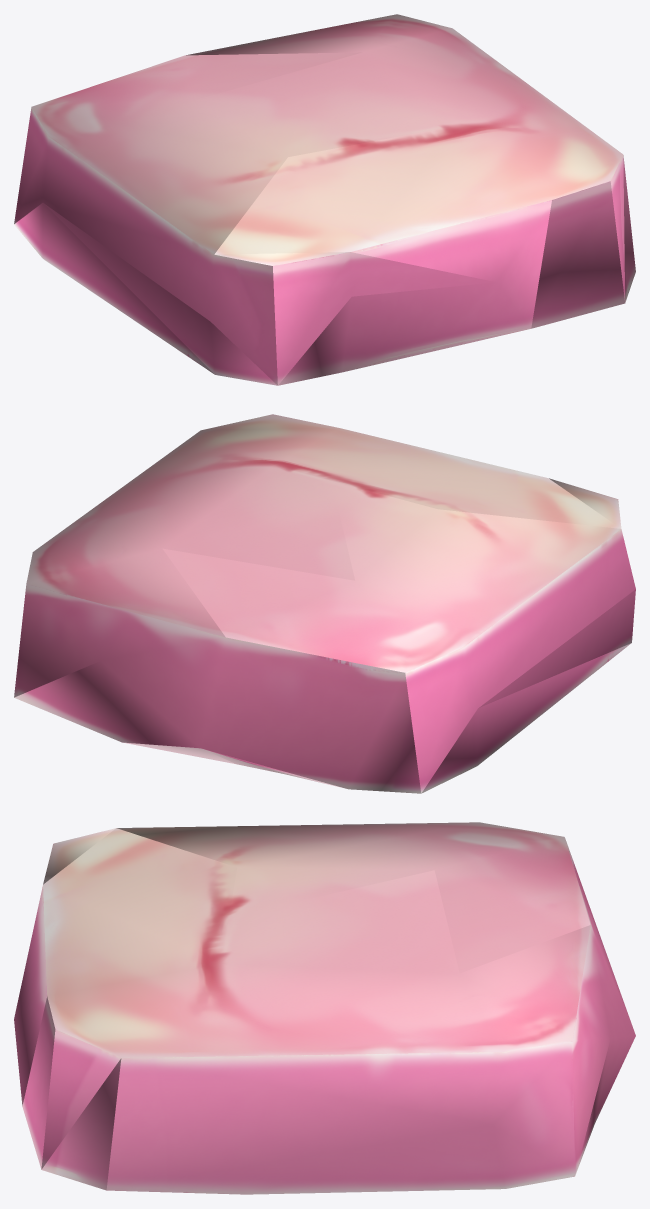
Rendered from FloorTile.fbx.
3 views of the same model, one above another, from view 1: azimuth 30°, elevation 25°; view 2: azimuth 150°, elevation 25°; view 3: azimuth 270°, elevation 25° (orthographic). The views are drawn at different scales.
Visible parts, largest first — view 1: temp; view 2: temp; view 3: temp.
Part boxes in pixels (x1,y1,x2,y2): temp: (14, 14, 635, 385); temp: (14, 414, 635, 793); temp: (14, 822, 635, 1194).
Size of the model in its own units: 1.73 by 0.6169 by 1.88.
1 material, 1 textured.
